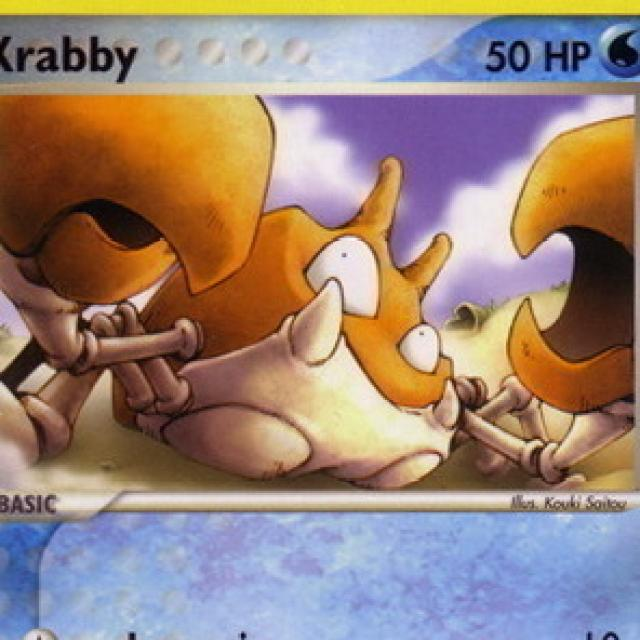Krabby: (0, 84, 639, 495)
